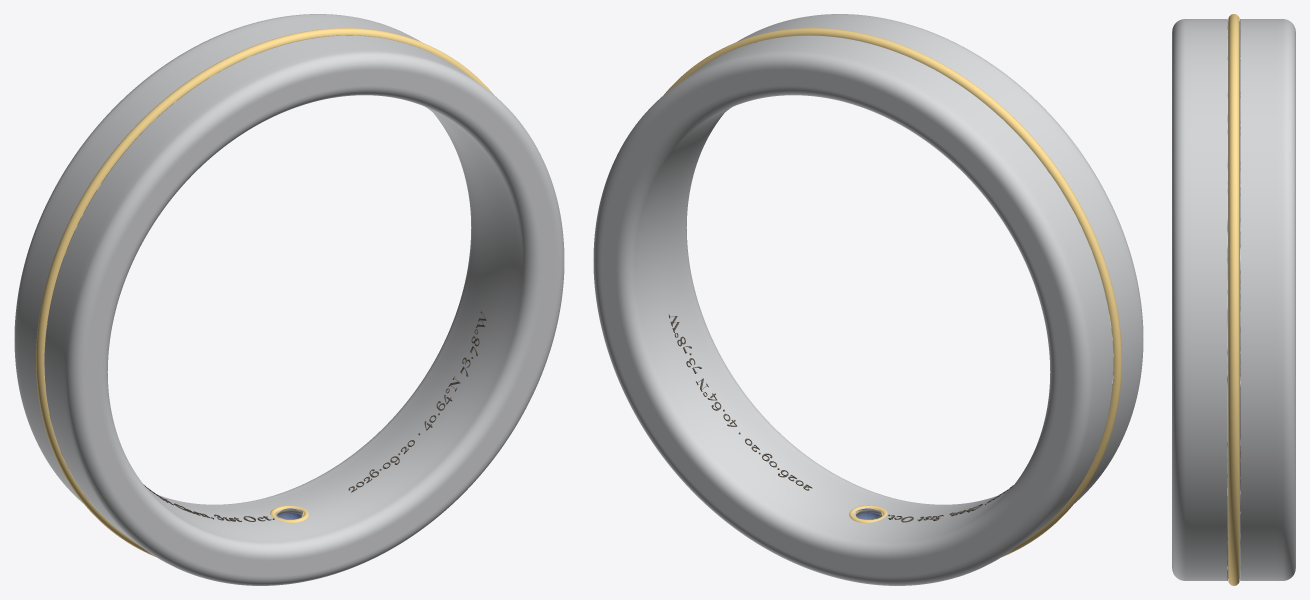
Rendered from meridian_his.glb.
3 renders of one model, left to right at view 1: azimuth 30°, elevation 25°; view 2: azimuth 150°, elevation 25°; view 3: azimuth 270°, elevation 25°, orthographic. The views are drawn at different scales.
Parts seen in each view (by area): view 1: Band, MeridianInlay, EngravingR; view 2: Band, MeridianInlay, EngravingR; view 3: Band, MeridianInlay.
Boxes of the visible parts, x1=… form: Band: x1=14, y1=14, x2=564, y2=585; MeridianInlay: x1=36, y1=28, x2=493, y2=556; EngravingR: x1=348, y1=310, x2=487, y2=492; Band: x1=593, y1=14, x2=1143, y2=585; MeridianInlay: x1=664, y1=28, x2=1121, y2=556; EngravingR: x1=668, y1=314, x2=812, y2=490; Band: x1=1172, y1=19, x2=1295, y2=580; MeridianInlay: x1=1228, y1=14, x2=1239, y2=585.
Bounding box in the file's own units: 24.02 × 24.02 × 5.2.
